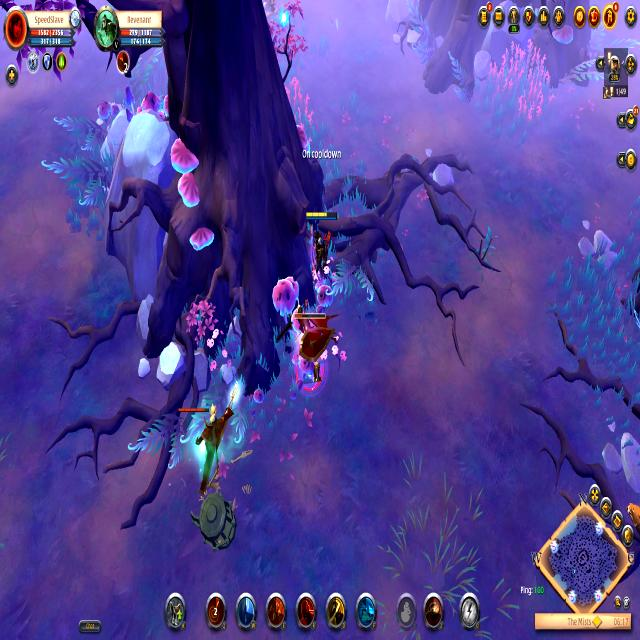ore: (175, 379, 242, 491), (292, 304, 340, 397), (626, 495, 640, 524)
red: (301, 203, 339, 286)
